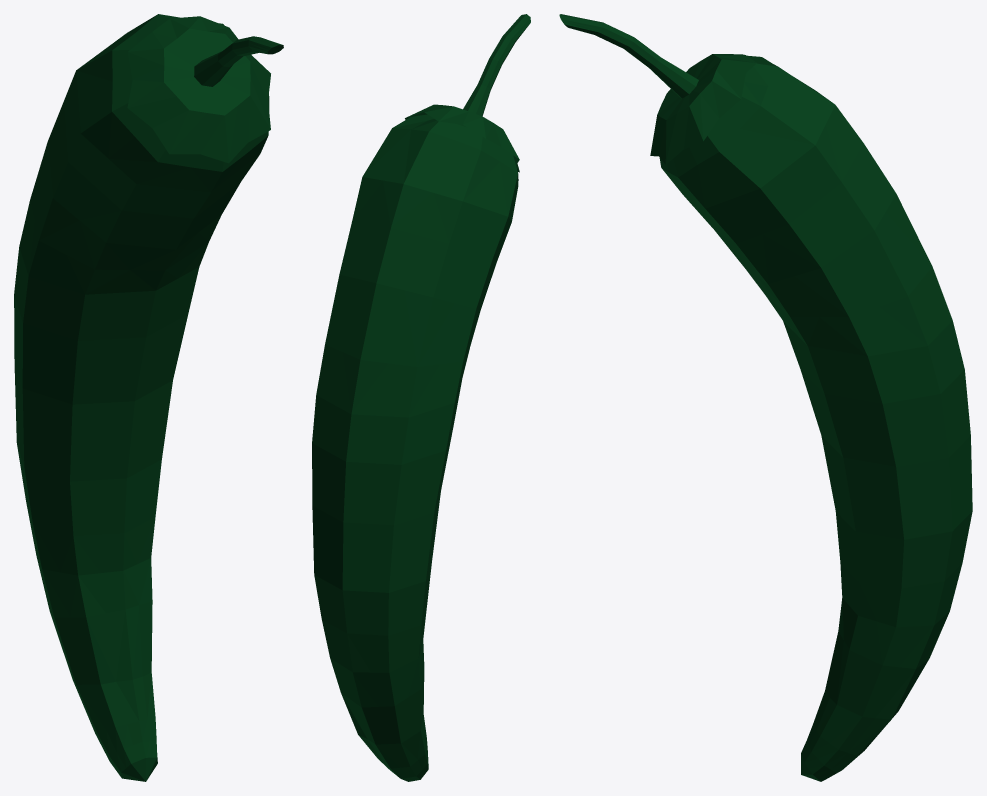
Rendered from CHILLI.gltf.
The picture shows the model from 3 angles, left to right: view 1: azimuth 30°, elevation 25°; view 2: azimuth 150°, elevation 25°; view 3: azimuth 270°, elevation 25°; orthographic projection. The views are drawn at different scales.
Parts seen in each view (by area): view 1: RedPepper; view 2: RedPepper; view 3: RedPepper.
Part boxes in pixels (x1=…): RedPepper: x1=14, y1=14, x2=283, y2=781; RedPepper: x1=312, y1=14, x2=530, y2=781; RedPepper: x1=559, y1=14, x2=972, y2=781.
Size of the model in its own units: 0.0257 by 0.1178 by 0.0577.
